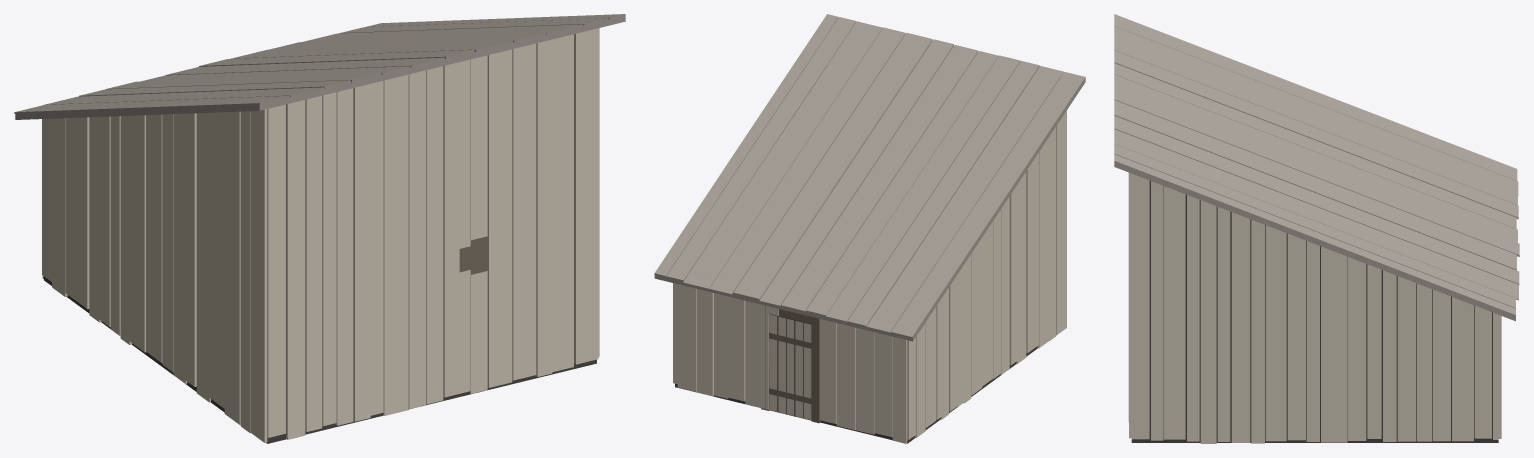
The model's file is recon_1835_north_d2_003__inferred_1835.glb.
The picture shows the model from 3 angles, left to right: view 1: azimuth 30°, elevation 25°; view 2: azimuth 150°, elevation 25°; view 3: azimuth 270°, elevation 25°; orthographic projection. The views are drawn at different scales.
Visible parts, largest first — view 1: recon_1835_north_d2_003__inferred_1835; view 2: recon_1835_north_d2_003__inferred_1835; view 3: recon_1835_north_d2_003__inferred_1835.
Boxes of the visible parts, x1,y1,x2,y2 form: recon_1835_north_d2_003__inferred_1835: [14, 14, 625, 443]; recon_1835_north_d2_003__inferred_1835: [654, 14, 1085, 443]; recon_1835_north_d2_003__inferred_1835: [1114, 14, 1519, 443].
Bounding box in the file's own units: 5.22 × 4.82 × 6.09.
